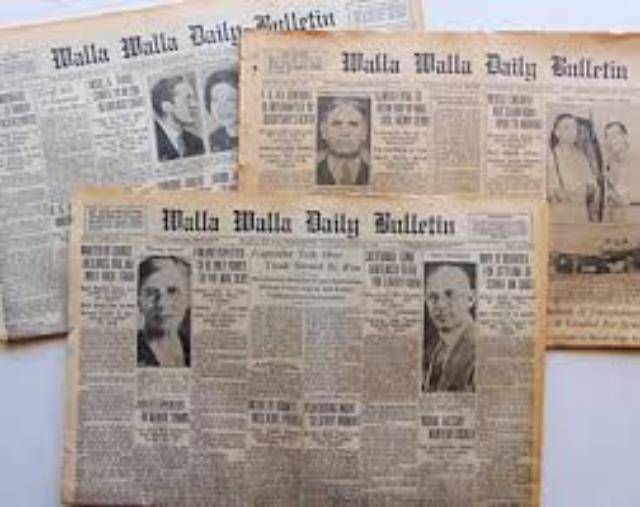cardboard paper: (63, 185, 541, 498), (0, 0, 417, 335), (236, 28, 640, 355)
